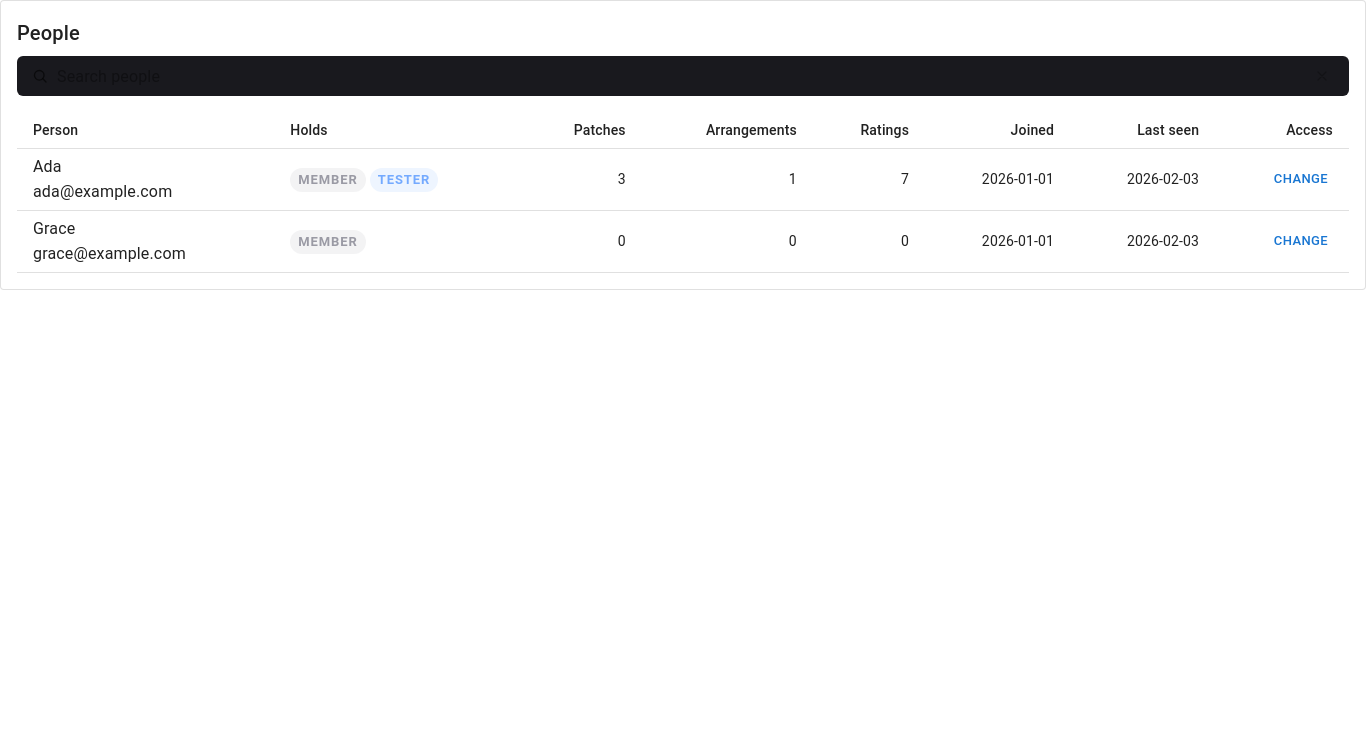
Scenario: the editor › opens on the person picked and comes back to the list
What coordinates should you click on to do the following:
click the button "Change" in the row of "ada@example.com"
I would click on:
 (1301, 180)
Its box is [1269, 164, 1333, 195].
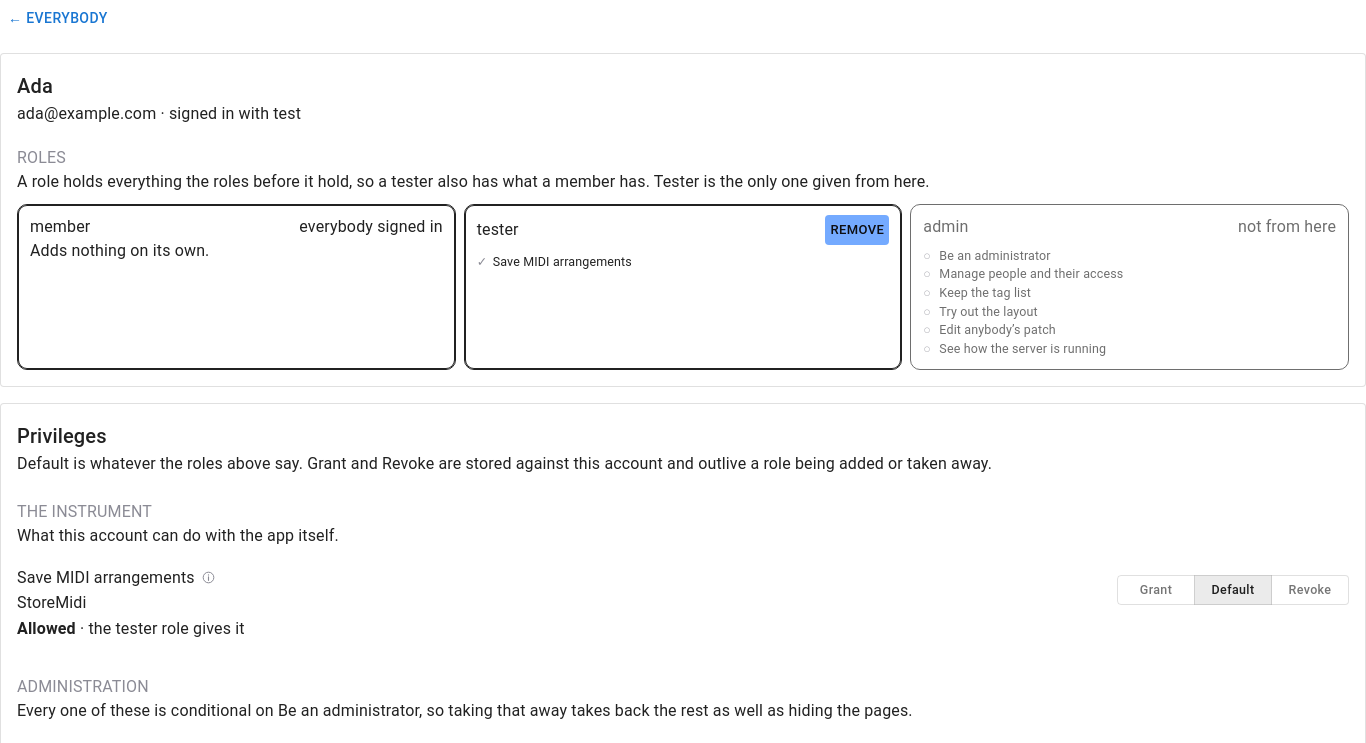
Expected: the heading "Ada" is shown, [17, 74, 53, 98]
What coordinates should you click on to do the following:
click the button "← Everybody"
I would click on:
 (58, 18)
Its box is [0, 0, 116, 36].
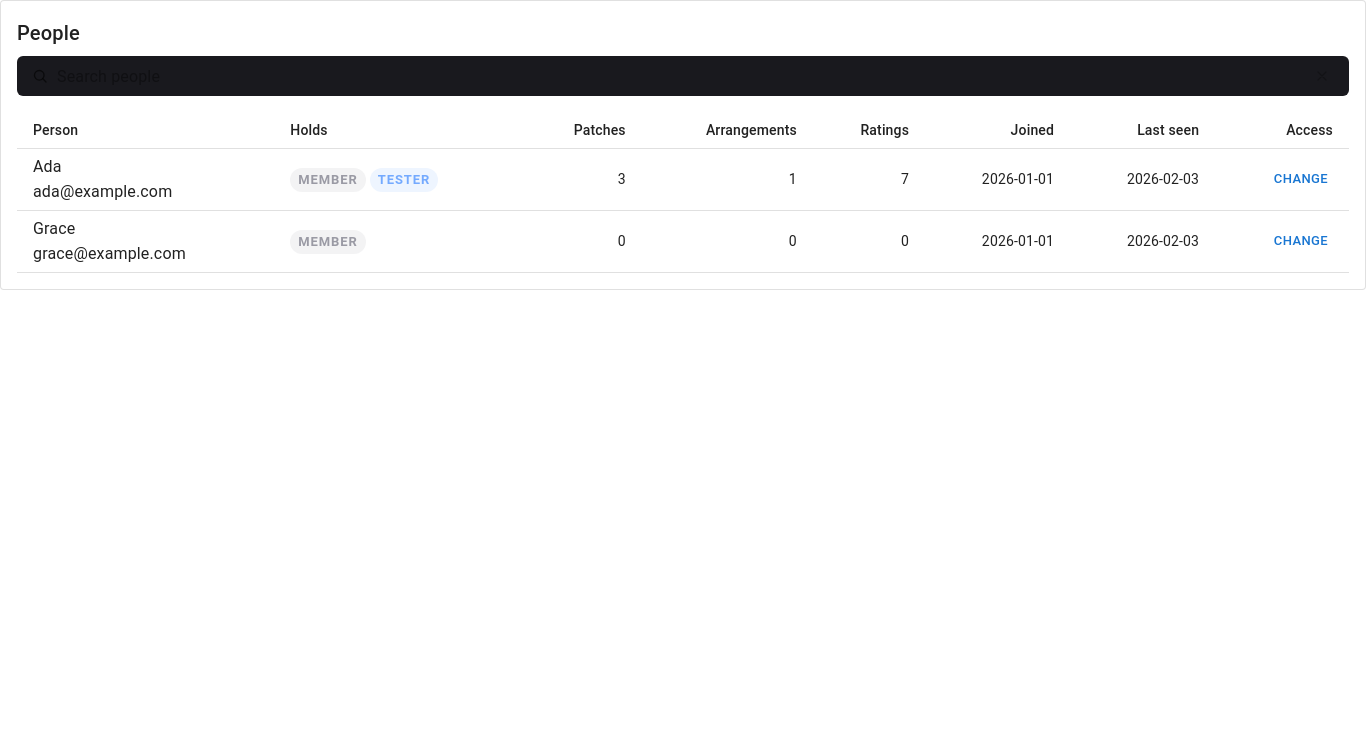
Now the text "Grace" is shown, box [33, 219, 75, 238]
